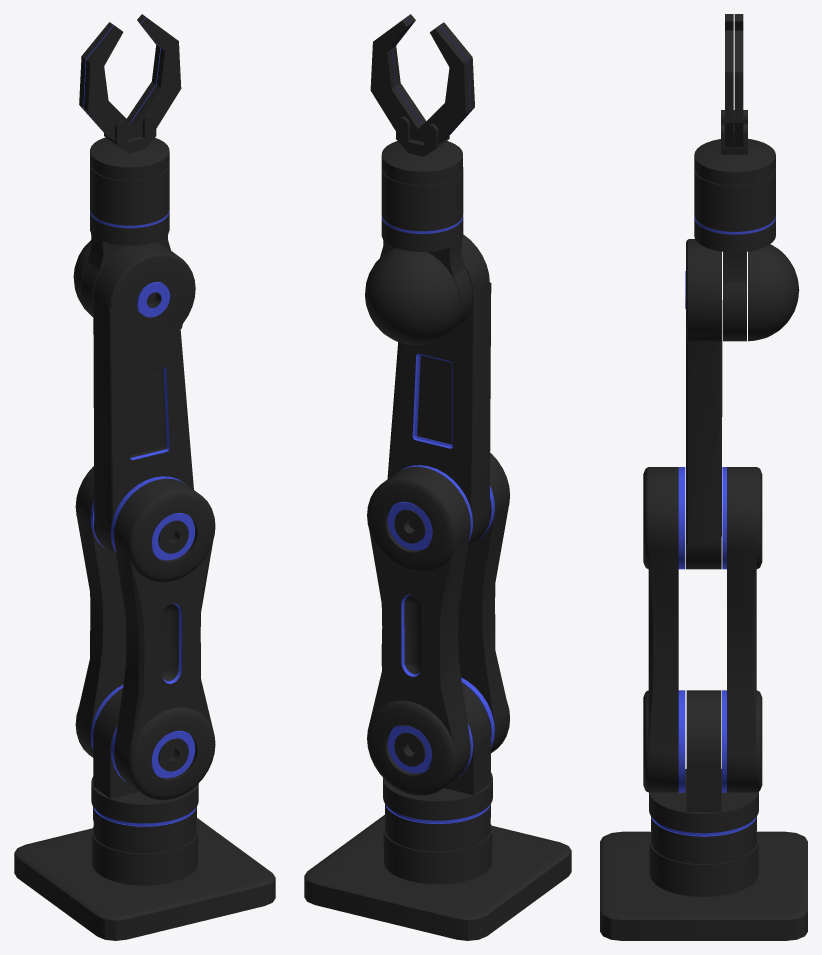
File: robotArm.fbx
3 renders of one model, left to right at view 1: azimuth 30°, elevation 25°; view 2: azimuth 150°, elevation 25°; view 3: azimuth 270°, elevation 25°, orthographic. The views are drawn at different scales.
Visible parts, largest first — view 1: Cube.001, Cube.003, Cube, Cube.006, Cube.002, Cube.008, Cube.007, Cube.010; view 2: Cube.001, Cube.003, Cube, Cube.006, Cube.002, Cube.008, Cube.007, Cube.010; view 3: Cube.001, Cube, Cube.003, Cube.006, Cube.002, Cube.008, Cube.007.
Boxes of the visible parts, x1,y1,x2,y2 form: Cube.001: (75,466,215,799); Cube.003: (73,240,195,556); Cube: (14,807,275,940); Cube.006: (80,163,170,316); Cube.002: (91,688,198,823); Cube.008: (90,114,169,179); Cube.007: (126,14,181,138); Cube.010: (79,22,142,141); Cube.001: (367,452,509,795); Cube.003: (365,234,491,546); Cube: (304,804,571,940); Cube.006: (380,167,472,333); Cube.002: (383,683,492,820); Cube.008: (381,116,462,184); Cube.007: (370,14,426,141); Cube.010: (410,22,474,144); Cube.001: (643,467,762,792); Cube: (600,816,807,940); Cube.003: (685,239,799,569); Cube.006: (694,168,775,341); Cube.002: (649,690,758,833); Cube.008: (694,110,775,184); Cube.007: (725,30,743,146).
Bounding box in the file's own units: 223 × 223 × 1037.
